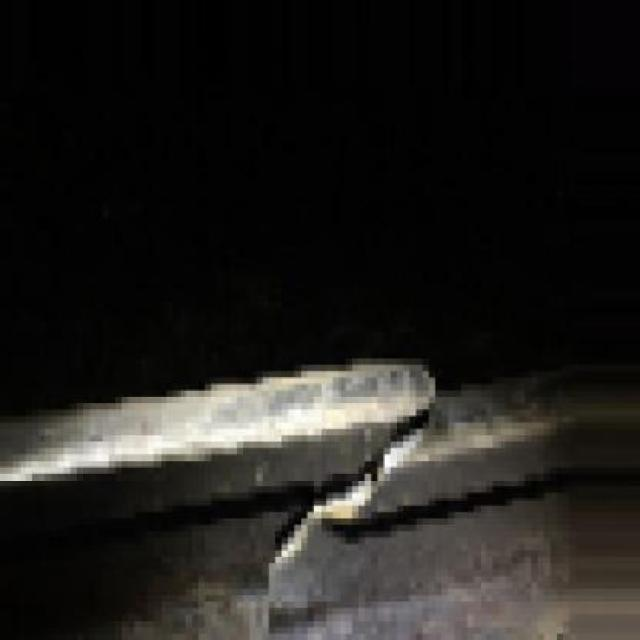defective: (138, 203, 636, 640)
